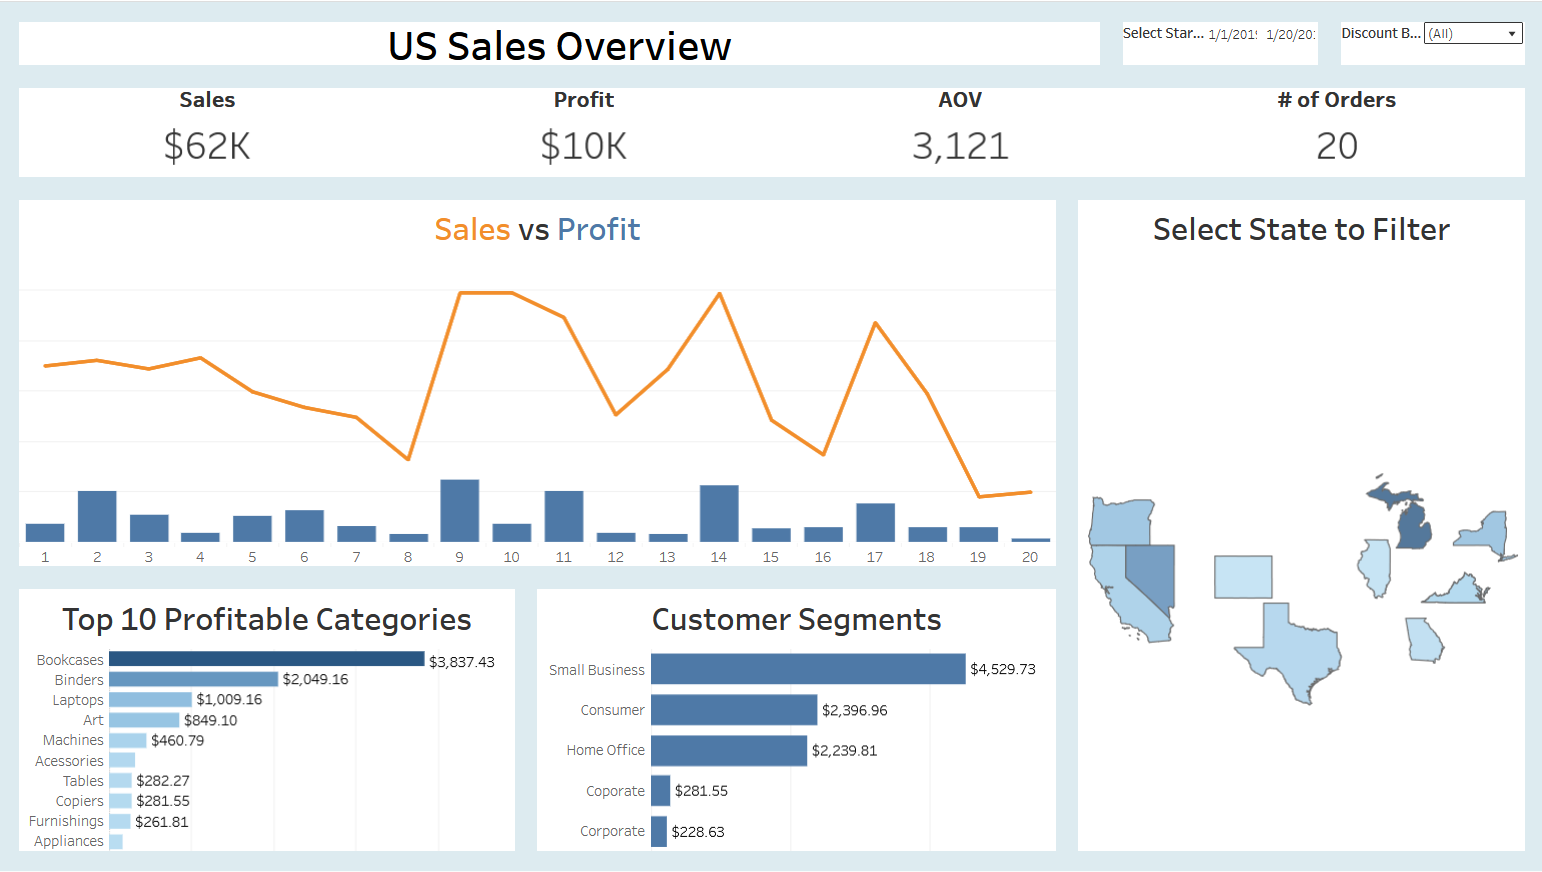

This screenshot's page, from the dashboard's own definition file:
{"tool":"tableau","page":{"name":"US Sales Dashboard","canvas":[1366,768],"ordinal":0},"visuals":[{"type":"text","box":[8,8,975,58]},{"type":"filter","title":"Sales/Profit Trend","param":"[federated.05huplz1bkkh7b118l18z0w7tv5n].[none:OrderDate:qk]","box":[983,8,193.5,58]},{"type":"filter","title":"Bar Chart","param":"[federated.05huplz1bkkh7b118l18z0w7tv5n].[none:Calculation_660621838214868993:nk","box":[1176.5,8,181.5,58]},{"type":"worksheet","title":"KPIs","mark":"Automatic","box":[8,66,1350,99]},{"type":"worksheet","title":"Sales/Profit Trend","mark":"Automatic","rows":["Sales","Profit"],"cols":["OrderDate"],"box":[8,165,936,344]},{"type":"worksheet","title":"Map","mark":"Automatic","box":[944,165,414,595]},{"type":"worksheet","title":"Bar Chart","mark":"Automatic","rows":["Sub-Category"],"cols":["Profit"],"box":[8,509,458,251]},{"type":"worksheet","title":"Customer Segment","mark":"Automatic","rows":["Customer"],"cols":["Profit"],"box":[466,509,478,251]}]}

Visuals, with their boxes in screenshot pixels (x1, y1, x2, y2), scaled from the page's 1366x768 canvas onto the 1542x872 screenshot:
text: {"x1": 9, "y1": 9, "x2": 1110, "y2": 75}
"Sales/Profit Trend" filter: {"x1": 1110, "y1": 9, "x2": 1328, "y2": 75}
"Bar Chart" filter: {"x1": 1328, "y1": 9, "x2": 1533, "y2": 75}
"KPIs" worksheet: {"x1": 9, "y1": 75, "x2": 1533, "y2": 187}
"Sales/Profit Trend" worksheet: {"x1": 9, "y1": 187, "x2": 1066, "y2": 578}
"Map" worksheet: {"x1": 1066, "y1": 187, "x2": 1533, "y2": 863}
"Bar Chart" worksheet: {"x1": 9, "y1": 578, "x2": 526, "y2": 863}
"Customer Segment" worksheet: {"x1": 526, "y1": 578, "x2": 1066, "y2": 863}
